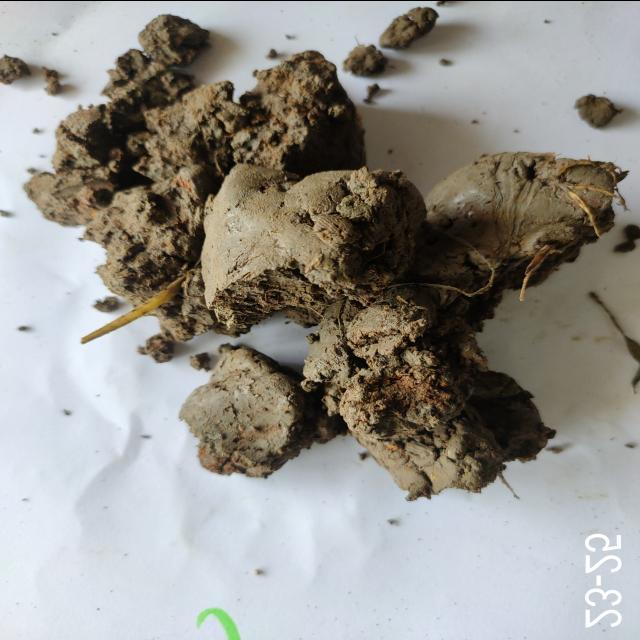soil: (166, 101, 450, 410)
